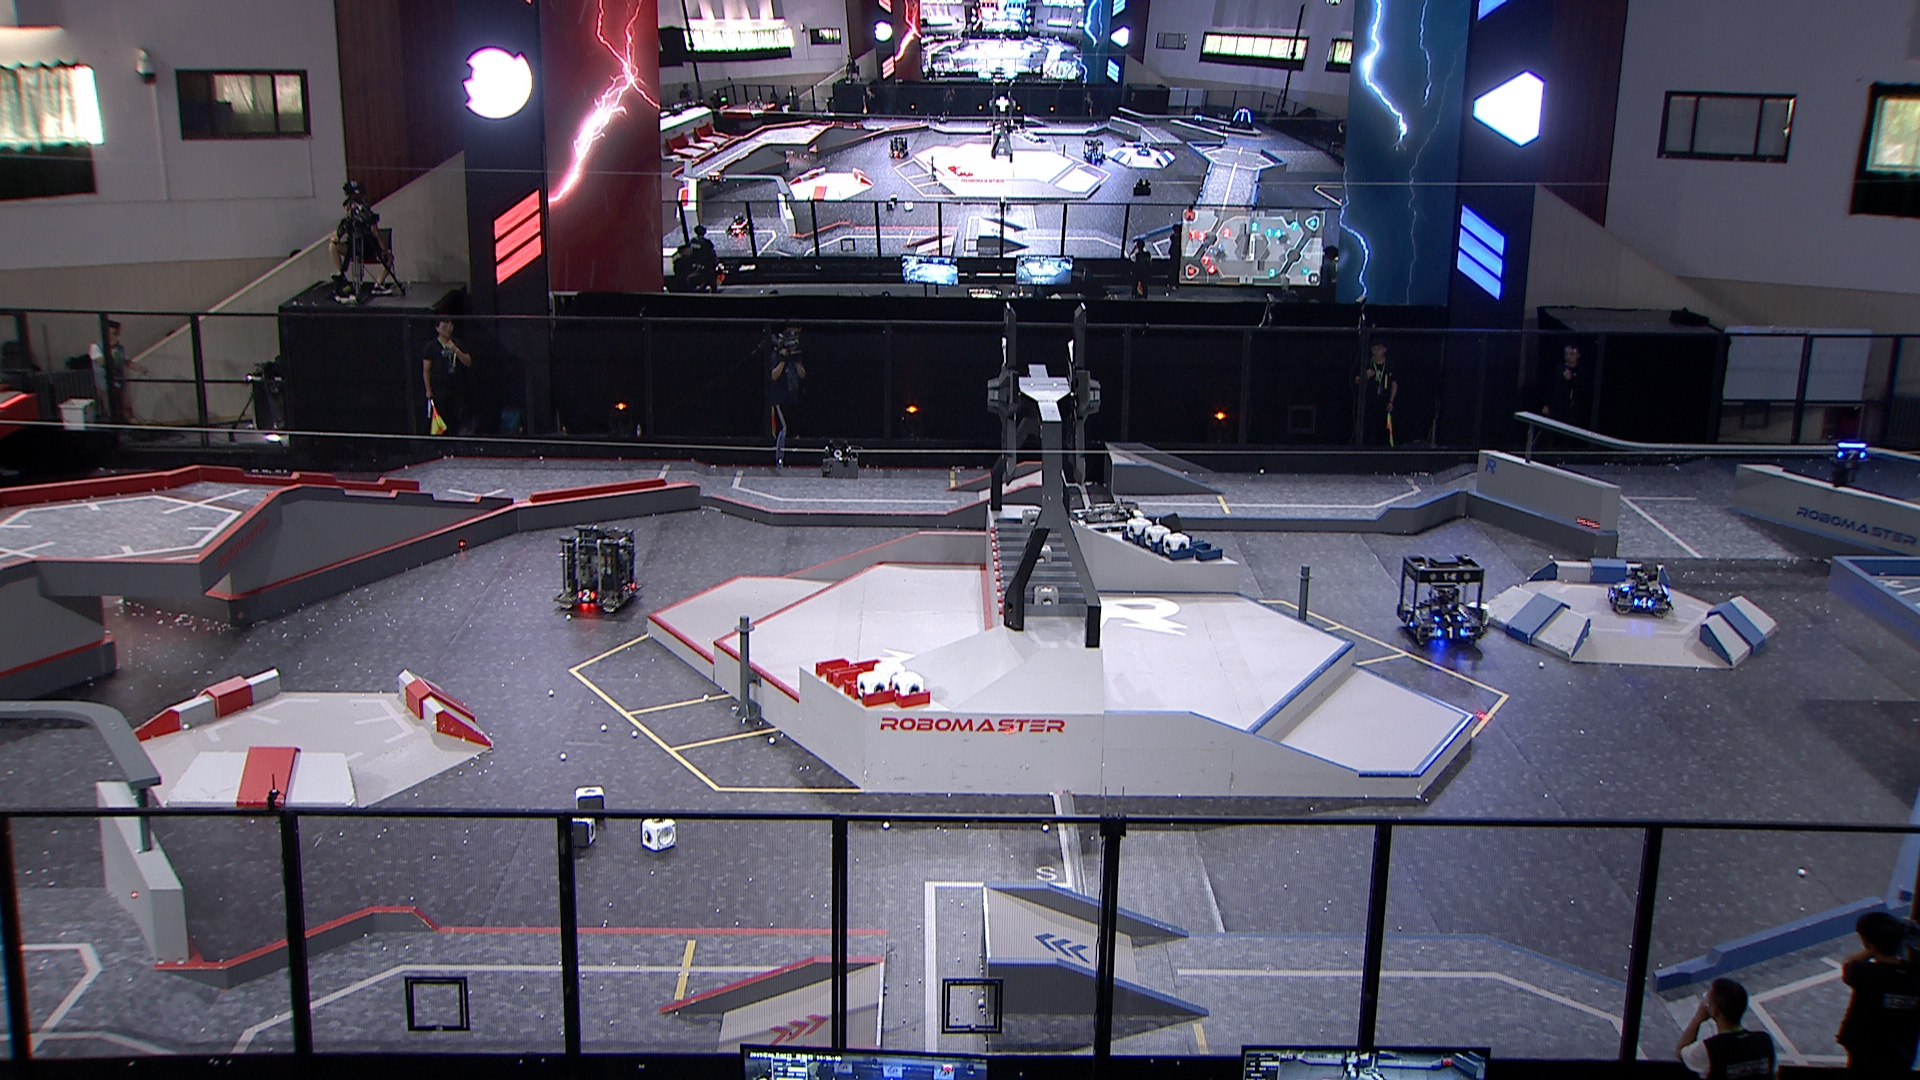armor: (1836, 447, 1866, 462), (1400, 609, 1415, 632), (574, 588, 595, 603), (1437, 626, 1462, 638), (1633, 597, 1654, 611), (1437, 612, 1460, 622), (622, 580, 637, 595), (1615, 579, 1629, 593), (1607, 588, 1617, 603)
car: (1064, 495, 1168, 595), (1393, 551, 1490, 654), (553, 520, 646, 618), (1604, 556, 1676, 616)
ignore: (1077, 138, 1106, 166), (1229, 105, 1258, 133), (724, 210, 752, 237), (887, 133, 913, 161), (704, 167, 733, 190), (1134, 142, 1153, 158), (1191, 109, 1204, 128)
watcher: (1826, 429, 1871, 485)
